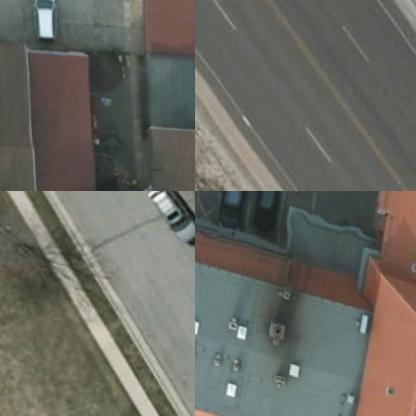car: (142, 191, 194, 246), (247, 191, 281, 238), (31, 0, 62, 43), (216, 191, 244, 234)
